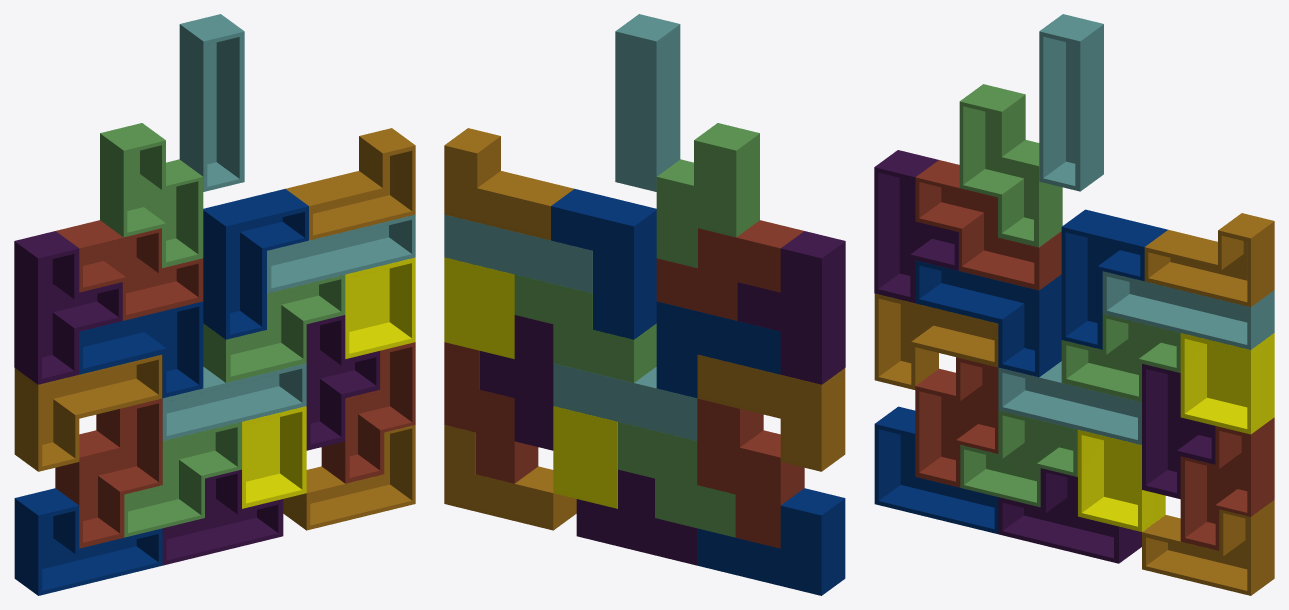
File: Blocks.fbx
3 renders of one model, left to right at view 1: azimuth 30°, elevation 25°; view 2: azimuth 150°, elevation 25°; view 3: azimuth 330°, elevation 25°, orthographic.
Parts seen in each view (by area): view 1: polySurface57; view 2: polySurface57; view 3: polySurface57.
Boxes of the visible parts, box(x1,y1,x2,y2) form: polySurface57: box(14, 14, 415, 595); polySurface57: box(444, 14, 845, 595); polySurface57: box(874, 14, 1274, 595).
Bounding box in the file's own units: 9.16 × 11.92 × 1.
